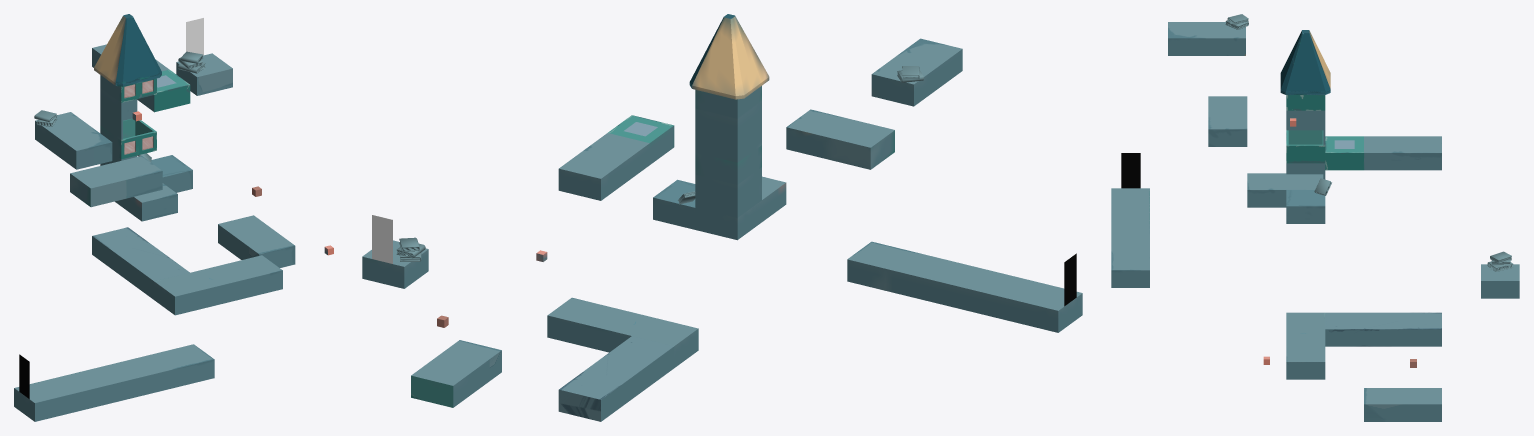
Rendered from level2_Static.fbx.
The picture shows the model from 3 angles, left to right: view 1: azimuth 30°, elevation 25°; view 2: azimuth 150°, elevation 25°; view 3: azimuth 270°, elevation 25°; orthographic projection. The views are drawn at different scales.
Visible parts, largest first — view 1: StaticPiece, MovingPieceIDKwhatthisis, Exit, Entrance; view 2: StaticPiece, MovingPieceIDKwhatthisis, Exit; view 3: StaticPiece, MovingPieceIDKwhatthisis, Entrance.
Part boxes in pixels (<box>): StaticPiece: <box>14,14,333,421</box>; MovingPieceIDKwhatthisis: <box>92,227,189,299</box>; Exit: <box>186,18,203,55</box>; Entrance: <box>19,354,29,398</box>; StaticPiece: <box>362,14,1082,407</box>; MovingPieceIDKwhatthisis: <box>558,336,674,421</box>; Exit: <box>372,215,392,263</box>; StaticPiece: <box>1111,14,1519,421</box>; MovingPieceIDKwhatthisis: <box>1325,312,1441,346</box>; Entrance: <box>1121,153,1140,188</box>.
Size of the model in its own units: 22 by 17 by 21.
6 materials, 2 textured.
